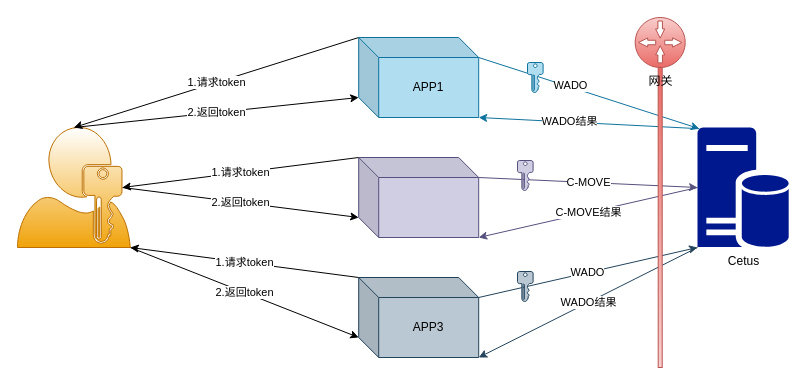
This 806x385 diagram has some shape labels left out. The box of each missing label's shape, as (x1, y1, x2, y2) in pixels:
APP2: (358, 156, 479, 238)
UAP: (16, 126, 130, 248)
